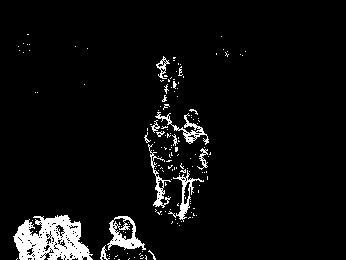person: (176, 108, 211, 221), (144, 103, 177, 214), (100, 214, 155, 260)
